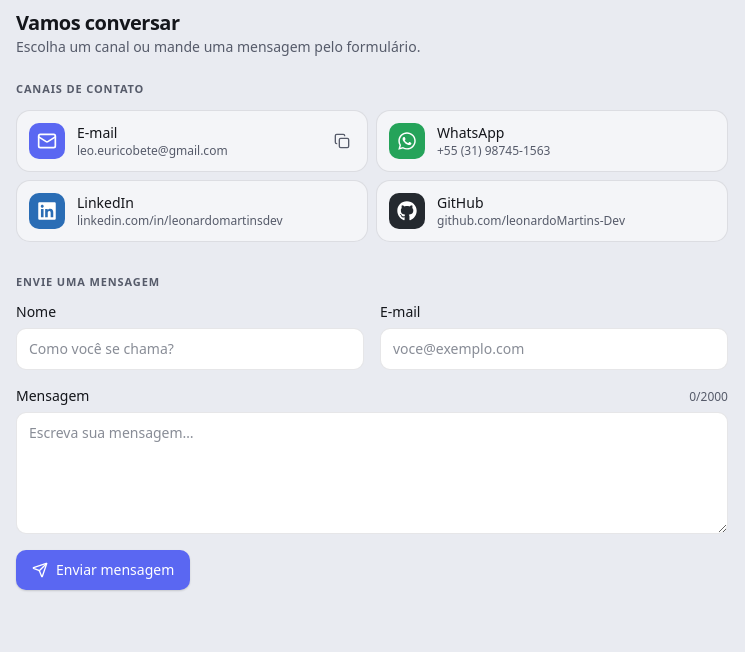
Test: app Contato › mostra os erros de validação traduzidos ao enviar vazio
Click the button "Enviar mensagem" at (103, 570), box x1=16 y1=550 x2=190 y2=590
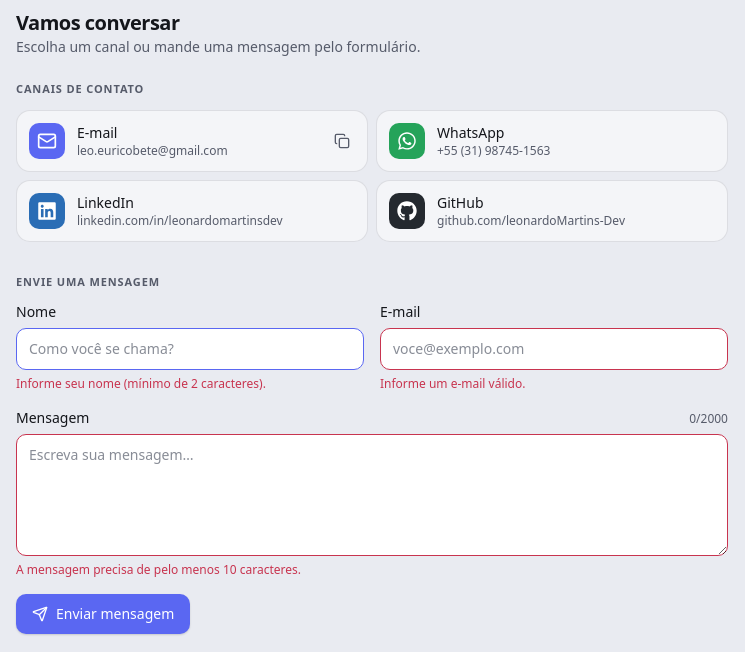
Result: the text "Informe seu nome (mínimo de 2 caracteres)." is shown at x1=16 y1=375 x2=266 y2=392
Result: the text "Informe um e-mail válido." is shown at x1=380 y1=375 x2=526 y2=392
Result: the text "A mensagem precisa de pelo menos 10 caracteres." is shown at x1=16 y1=561 x2=301 y2=578
